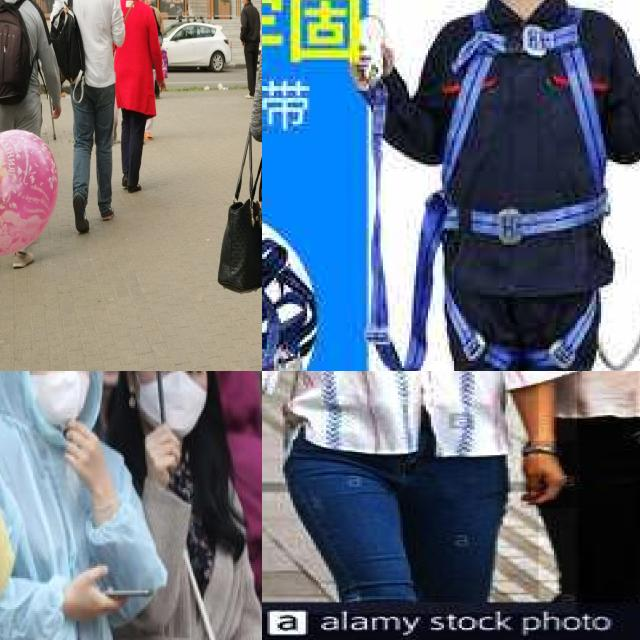Harness: (432, 0, 620, 371)
face_mask: (133, 371, 207, 436), (28, 371, 93, 426)
hand_noglove: (521, 440, 582, 510), (63, 561, 120, 618), (143, 420, 182, 480), (62, 416, 102, 474)
person: (262, 371, 579, 615), (103, 371, 262, 640), (0, 371, 156, 640), (538, 371, 640, 600)
